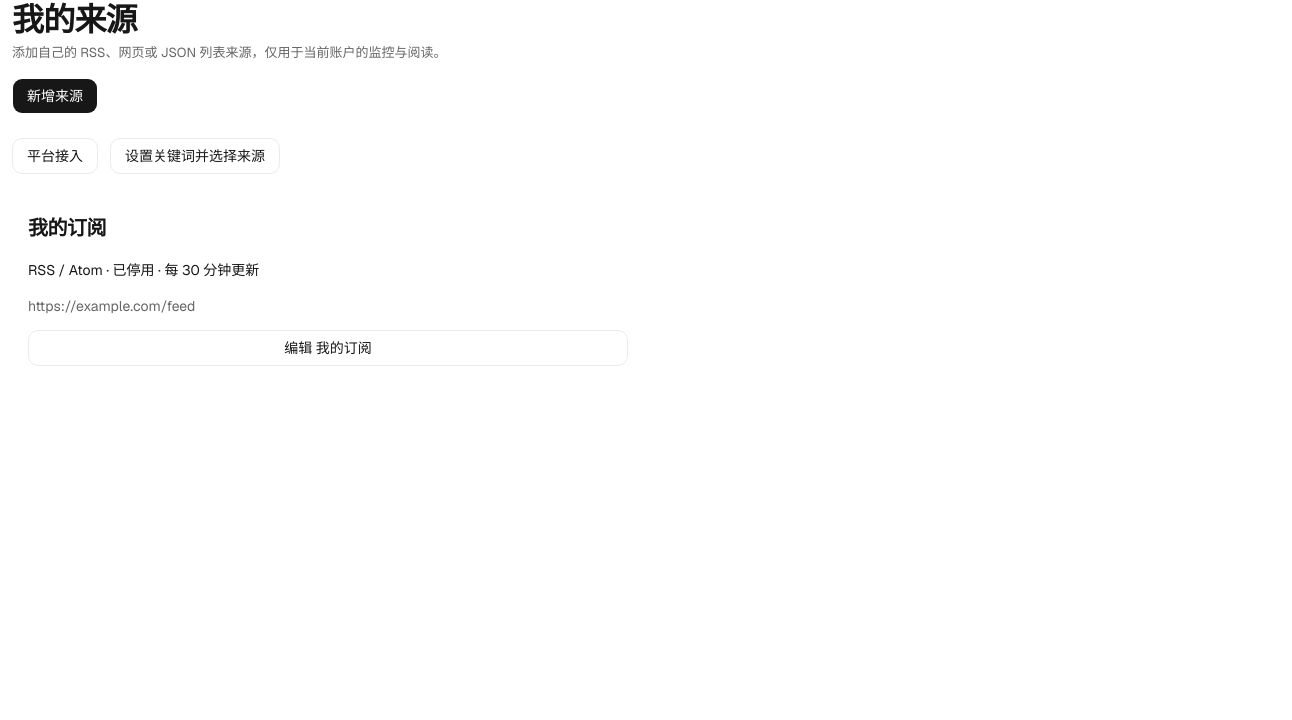
Test case: retains drafts after version conflicts and updates only the original expected revision
This screenshot has width=1292, height=720.
Click the button "编辑 我的订阅": (328, 348) [28,330,628,366]
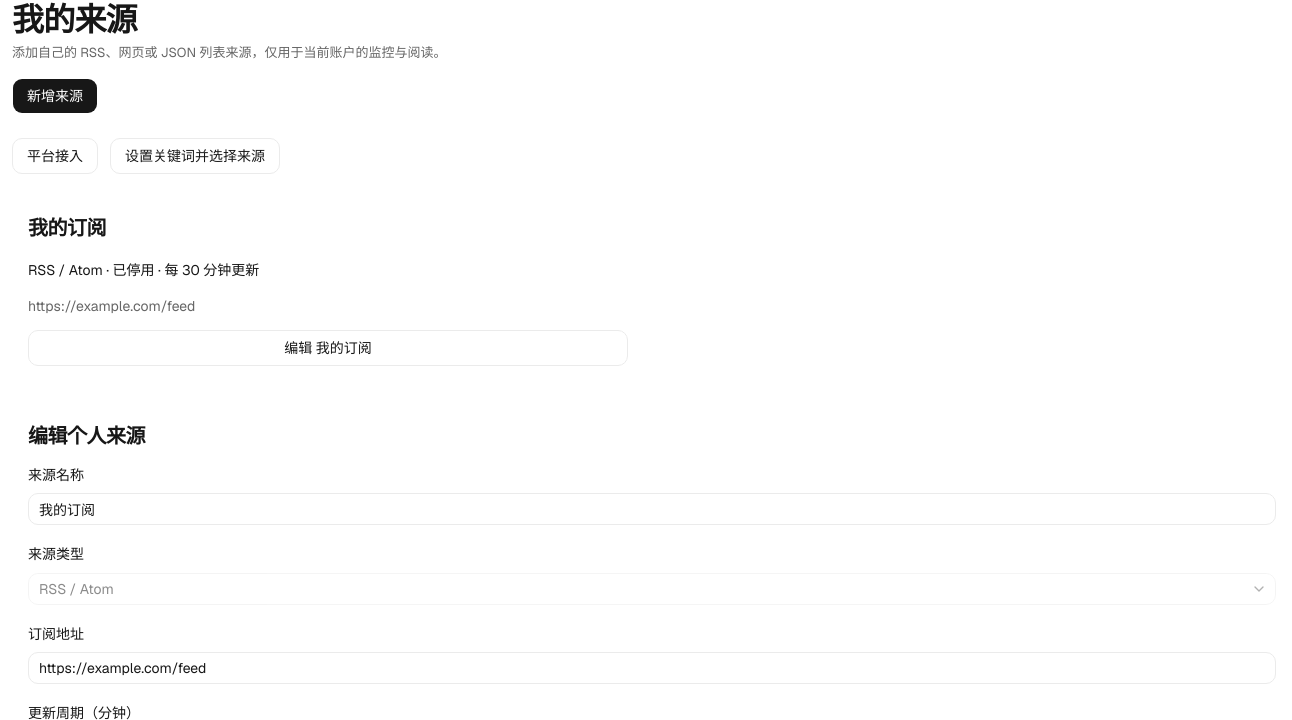
Replace the text in the field labelled "来源名称" with "修改的名称": (652, 509) [28,493,1276,525]
(page scrolled)
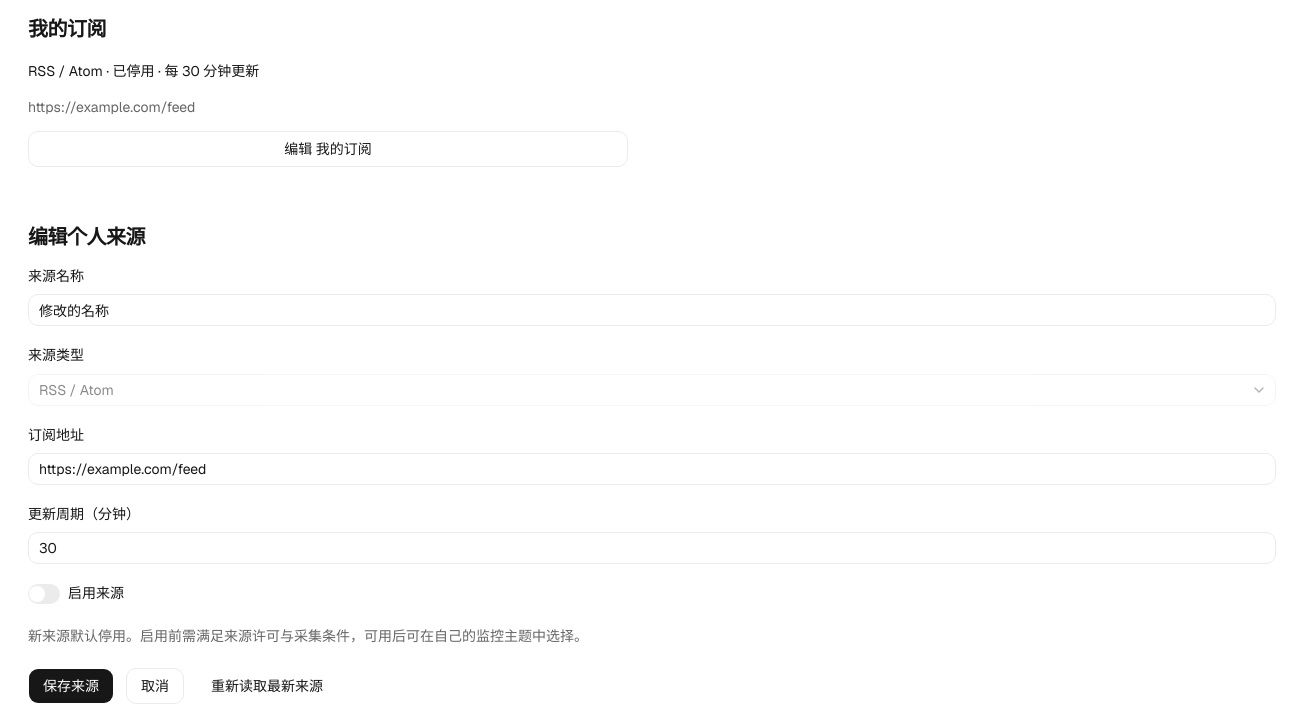
Submit the form labelled "来源名称", box [28,267,1276,704]
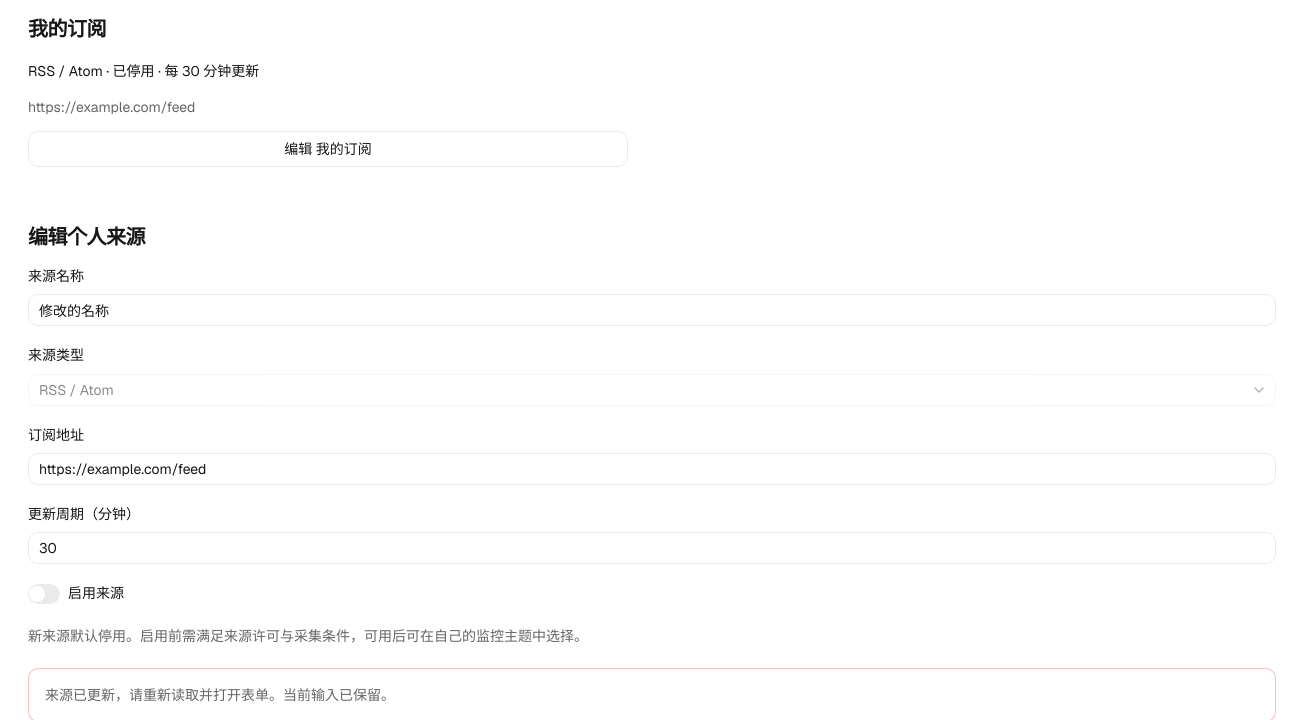
Now the text "来源已更新，请重新读取并打开表单。当前输入已保留。" is shown, box [45,686,395,704]
